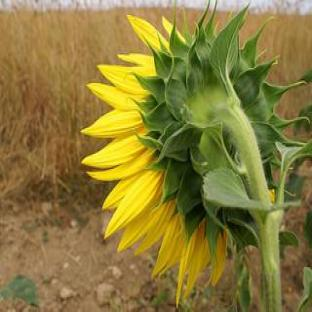sunflower: (82, 8, 308, 312)
